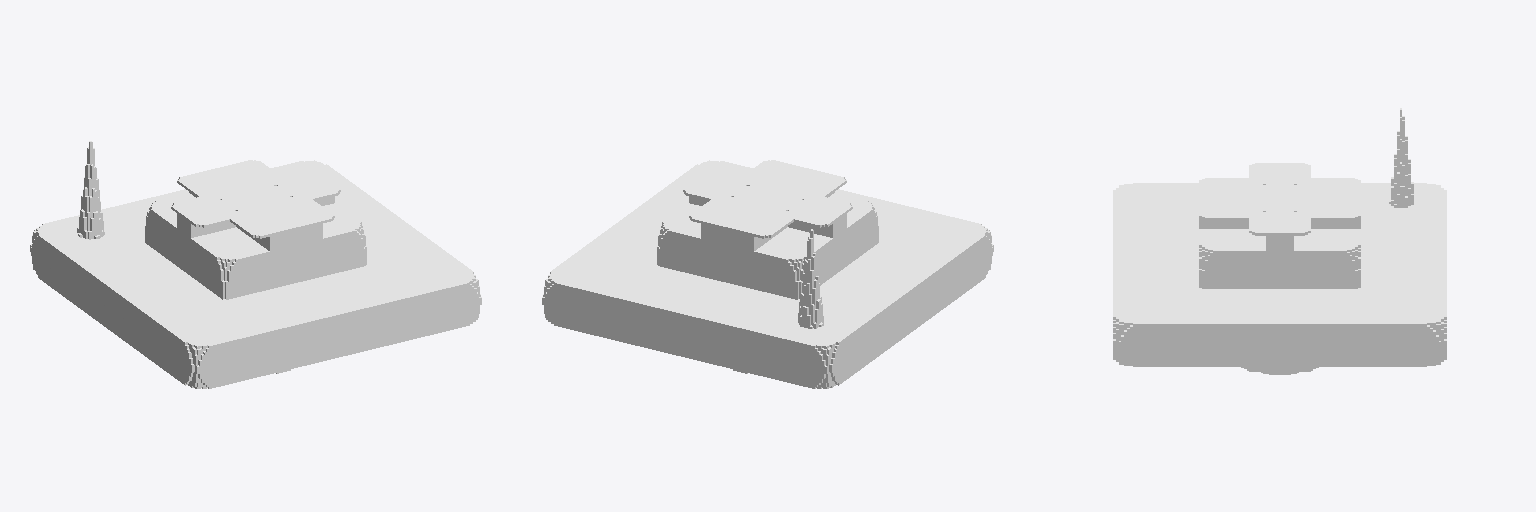
The model's file is star-command.obj.
3 renders of one model, left to right at view 1: azimuth 30°, elevation 25°; view 2: azimuth 150°, elevation 25°; view 3: azimuth 270°, elevation 25°, orthographic.
Parts seen in each view (by area): view 1: object 1; view 2: object 1; view 3: object 1.
Part boxes in pixels (x1,y1,x2,y2): object 1: (30,141,481,388); object 1: (542,160,993,388); object 1: (1113,108,1446,374).
Size of the model in its own units: 12 by 7.6 by 12.